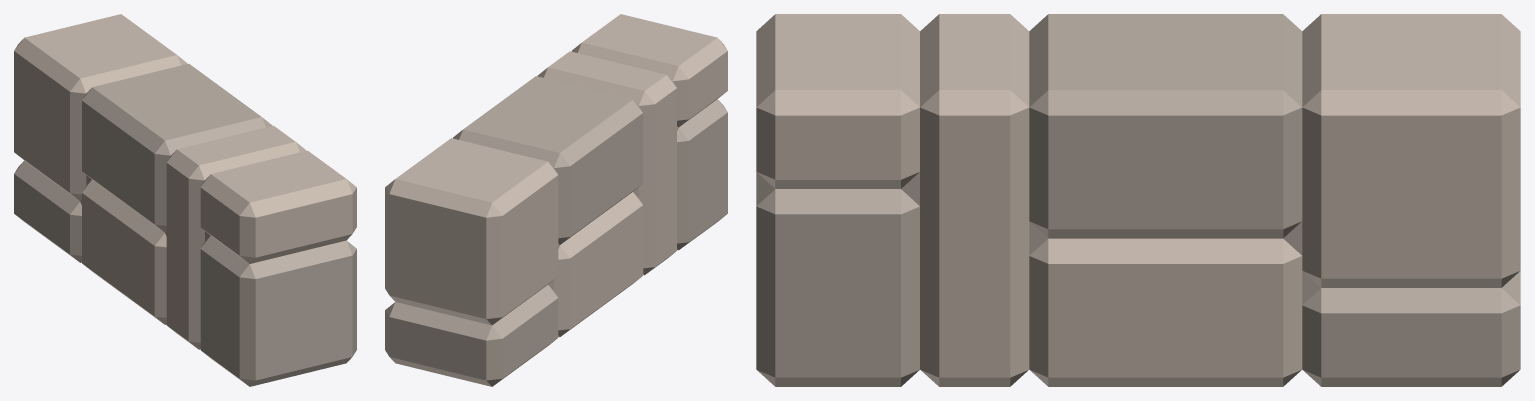
The model's file is Stone_Curb_1.glb.
3 views of the same model, side by side, from view 1: azimuth 30°, elevation 25°; view 2: azimuth 150°, elevation 25°; view 3: azimuth 270°, elevation 25° (orthographic). The views are drawn at different scales.
Visible parts, largest first — view 1: object1; view 2: object1; view 3: object1.
Part boxes in pixels (left/top/right/bottom): object1: left=14, top=14, right=356, bottom=386; object1: left=385, top=14, right=727, bottom=386; object1: left=756, top=14, right=1520, bottom=386.
Bounding box in the file's own units: 0.2 × 0.3 × 0.7.
